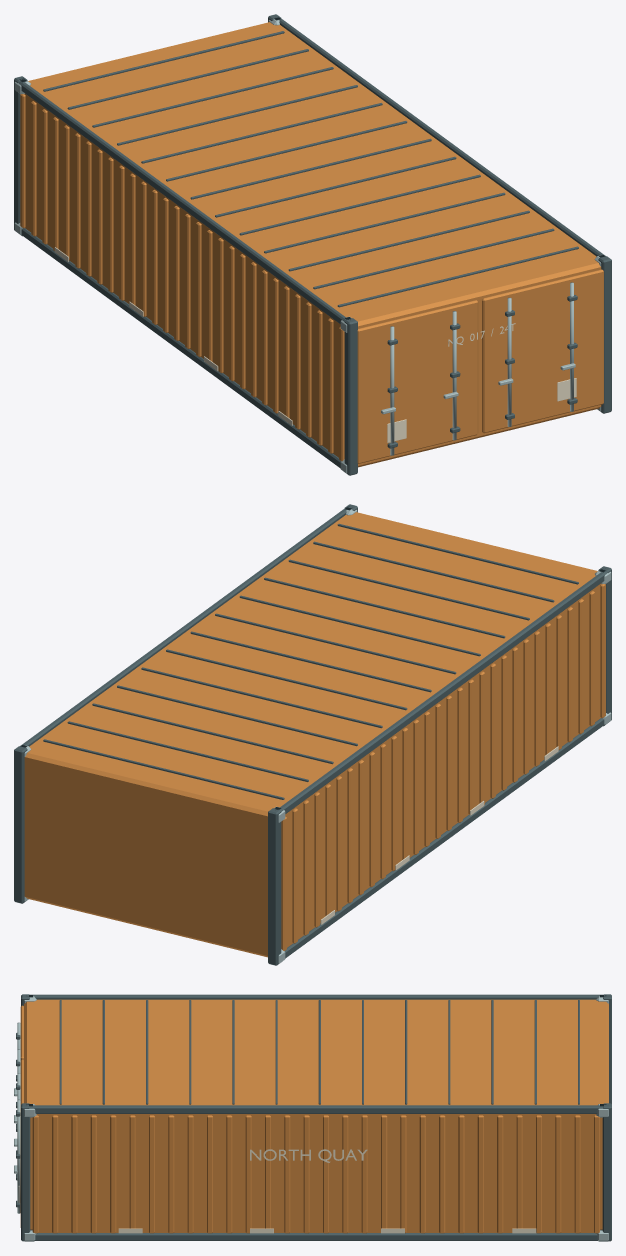
The model's file is quay-container.high.glb.
The picture shows the model from 3 angles, top to bottom: view 1: azimuth 30°, elevation 25°; view 2: azimuth 150°, elevation 25°; view 3: azimuth 270°, elevation 25°; orthographic projection. The views are drawn at different scales.
Parts seen in each view (by area): view 1: geometry:body:2, geometry:body:0, geometry:body:1, geometry:body:3; view 2: geometry:body:2, geometry:body:0; view 3: geometry:body:2, geometry:body:0, geometry:body:1, geometry:body:3.
Boxes of the visible parts, bbox=[...] form: geometry:body:2: bbox=[20, 22, 603, 467]; geometry:body:0: bbox=[14, 14, 611, 475]; geometry:body:1: bbox=[14, 19, 601, 474]; geometry:body:3: bbox=[54, 247, 576, 442]; geometry:body:2: bbox=[24, 512, 605, 957]; geometry:body:0: bbox=[14, 504, 611, 965]; geometry:body:2: bbox=[20, 999, 608, 1233]; geometry:body:0: bbox=[16, 994, 611, 1241]; geometry:body:1: bbox=[14, 996, 608, 1241]; geometry:body:3: bbox=[18, 1149, 536, 1233].
Size of the model in its own units: 4.96 by 2.73 by 10.94.
